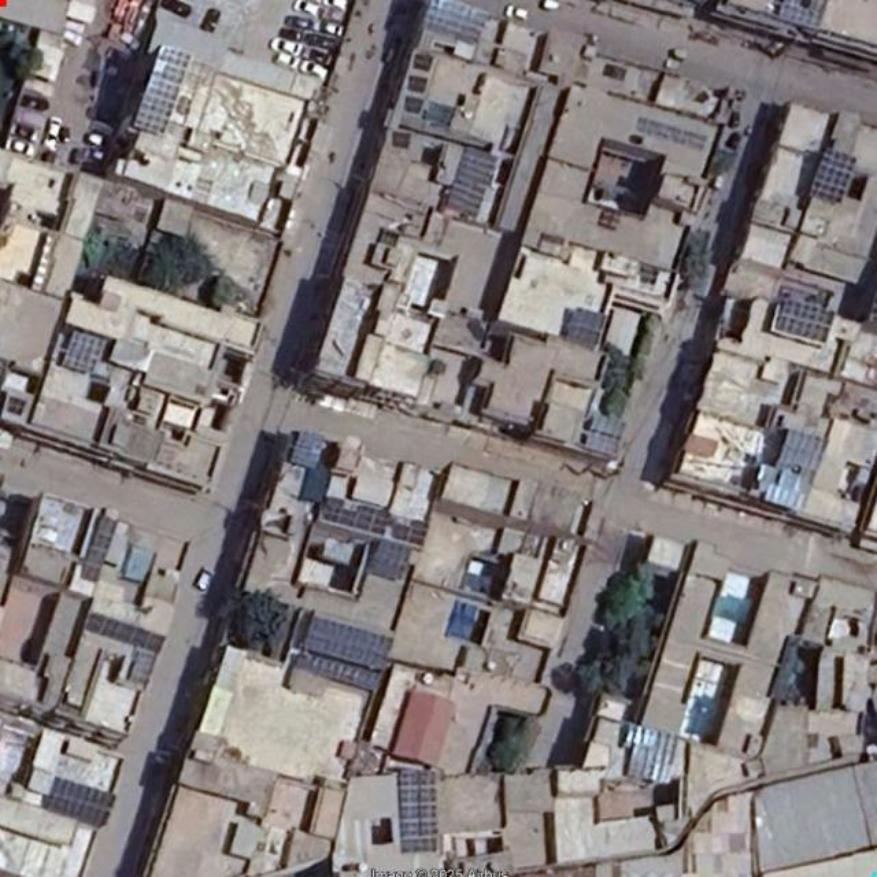Solarpanel: (292, 615, 393, 692), (322, 496, 428, 546), (135, 43, 190, 132), (447, 146, 498, 218), (85, 610, 165, 653), (423, 0, 495, 45), (398, 769, 437, 852), (48, 778, 112, 827), (774, 298, 836, 341), (808, 147, 856, 201), (84, 515, 116, 578), (62, 329, 108, 370), (585, 418, 625, 453), (566, 310, 605, 343), (777, 0, 819, 26)
